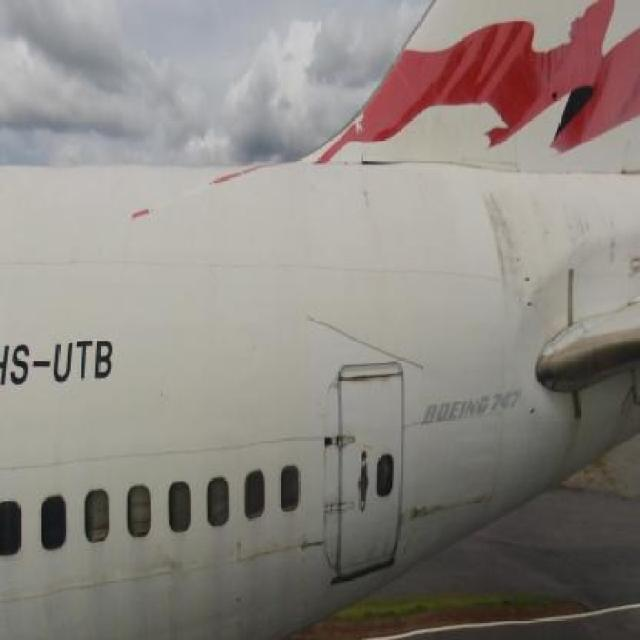Rust: (564, 192, 640, 304), (484, 185, 536, 308), (401, 488, 492, 524), (560, 390, 591, 476), (336, 368, 404, 394), (615, 368, 636, 444), (360, 528, 395, 568)
Scartch: (150, 540, 193, 638), (292, 528, 328, 564)
